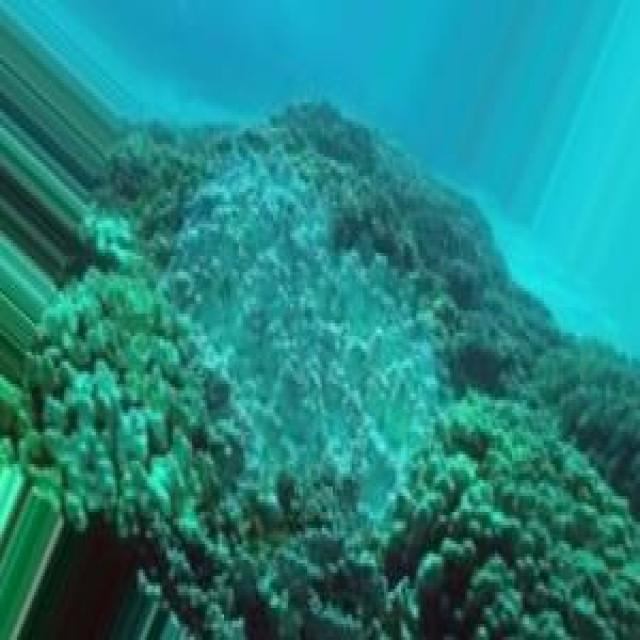Bleached: (174, 151, 438, 526)
Healthy: (334, 158, 639, 519), (191, 401, 639, 638), (20, 215, 234, 529), (522, 311, 639, 516)
